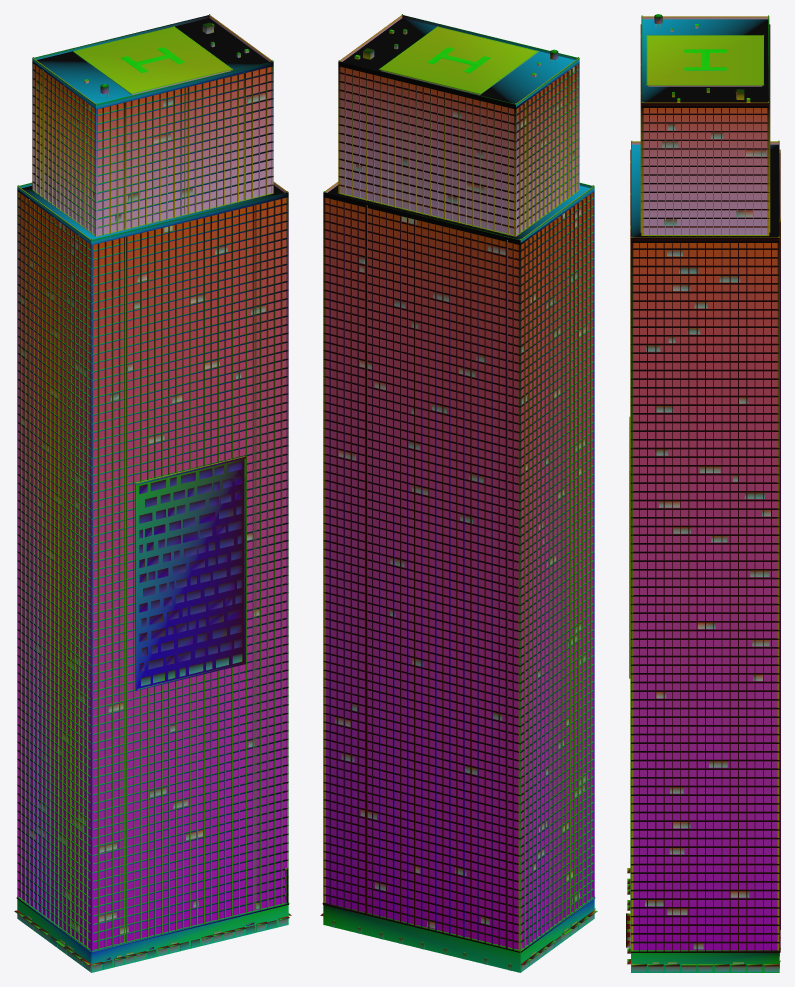
Rendered from Tower_Monolith_V5.fbx.
3 views of the same model, side by side, from view 1: azimuth 30°, elevation 25°; view 2: azimuth 150°, elevation 25°; view 3: azimuth 270°, elevation 25° (orthographic).
Visible parts, largest first — view 1: Tower_Monolith_V5_LOD0; view 2: Tower_Monolith_V5_LOD0; view 3: Tower_Monolith_V5_LOD0.
Boxes of the visible parts, x1=… form: Tower_Monolith_V5_LOD0: x1=14, y1=14, x2=291, y2=972; Tower_Monolith_V5_LOD0: x1=320, y1=14, x2=597, y2=972; Tower_Monolith_V5_LOD0: x1=626, y1=14, x2=780, y2=972.
Size of what is drawn, in the model's own units: 88.8 by 364 by 58.31.
